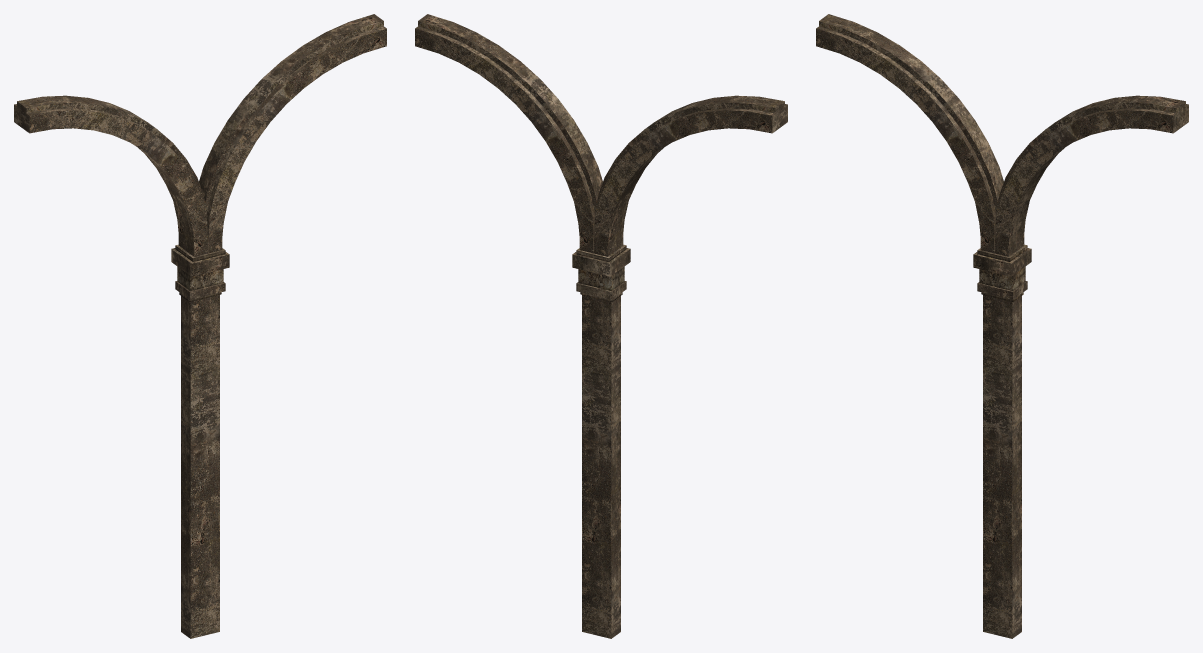
Rendered from materials_5_arch_24.fbx.
3 views of the same model, side by side, from view 1: azimuth 30°, elevation 25°; view 2: azimuth 150°, elevation 25°; view 3: azimuth 330°, elevation 25° (orthographic).
Visible parts, largest first — view 1: materials_5_arch_24; view 2: materials_5_arch_24; view 3: materials_5_arch_24.
Part boxes in pixels (x1,y1,x2,y2): materials_5_arch_24: [14, 14, 386, 638]; materials_5_arch_24: [415, 14, 787, 638]; materials_5_arch_24: [816, 14, 1188, 638].
Bounding box in the file's own units: 165 × 252 × 16.38.
